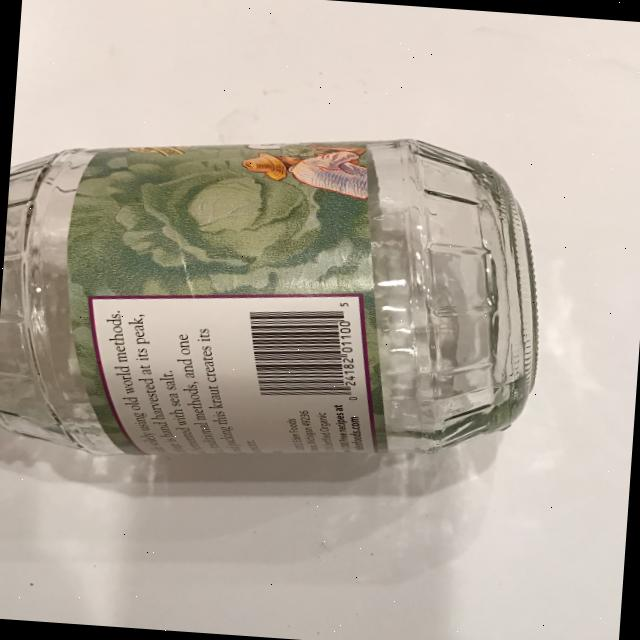glass: (0, 110, 553, 485)
